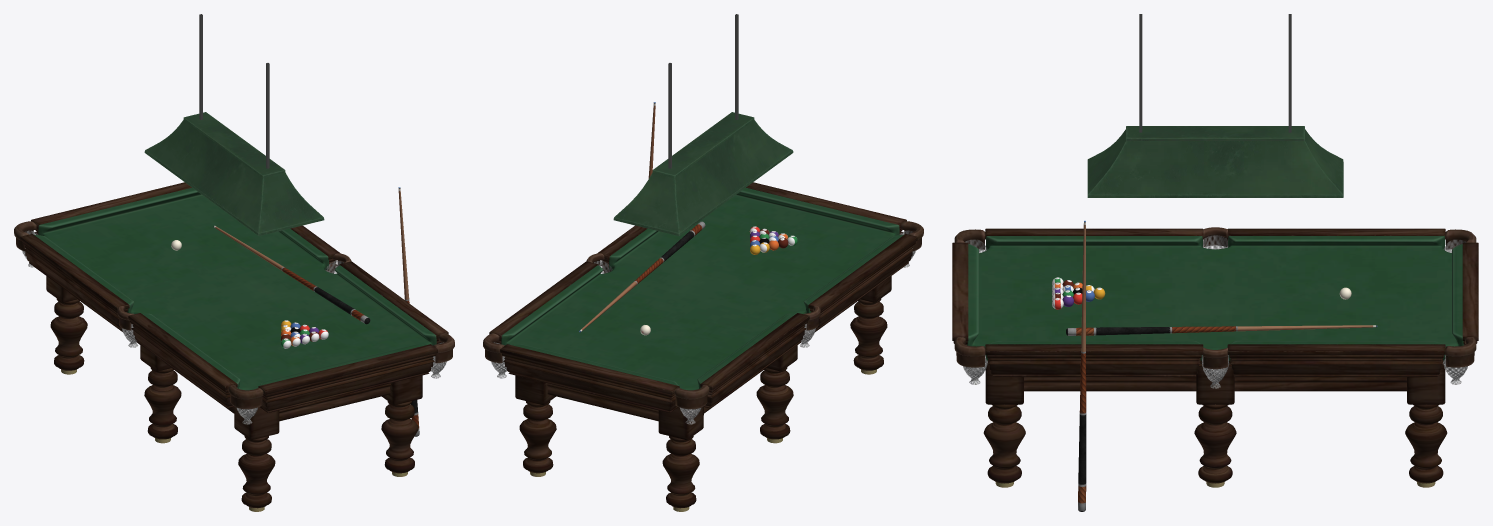
Rendered from poolTable.glb.
The picture shows the model from 3 angles, left to right: view 1: azimuth 30°, elevation 25°; view 2: azimuth 150°, elevation 25°; view 3: azimuth 270°, elevation 25°; orthographic projection. The views are drawn at different scales.
Parts seen in each view (by area): view 1: pooltable_low_pool_table_mat_0, ceiling_light_low_light_mat_0, pool_cue_cue_mat_0, billiard_ball015_billiard_ball_mat_0; view 2: pooltable_low_pool_table_mat_0, ceiling_light_low_light_mat_0, pool_cue_cue_mat_0, billiard_ball015_billiard_ball_mat_0; view 3: pooltable_low_pool_table_mat_0, ceiling_light_low_light_mat_0, pool_cue_cue_mat_0, billiard_ball015_billiard_ball_mat_0.
Boxes of the visible parts, <box> form: pooltable_low_pool_table_mat_0: <box>14,182,454,511</box>; ceiling_light_low_light_mat_0: <box>144,14,324,235</box>; pool_cue_cue_mat_0: <box>213,187,419,436</box>; billiard_ball015_billiard_ball_mat_0: <box>171,240,328,348</box>; pooltable_low_pool_table_mat_0: <box>483,182,923,511</box>; ceiling_light_low_light_mat_0: <box>613,14,793,235</box>; pool_cue_cue_mat_0: <box>579,102,705,332</box>; billiard_ball015_billiard_ball_mat_0: <box>640,226,797,335</box>; pooltable_low_pool_table_mat_0: <box>952,227,1478,487</box>; ceiling_light_low_light_mat_0: <box>1087,14,1343,197</box>; pool_cue_cue_mat_0: <box>1066,220,1377,511</box>; billiard_ball015_billiard_ball_mat_0: <box>1052,277,1351,309</box>.
Bounding box in the file's own units: 1.47 × 2.25 × 2.49.
Materials: 4 (4 with a texture image).
